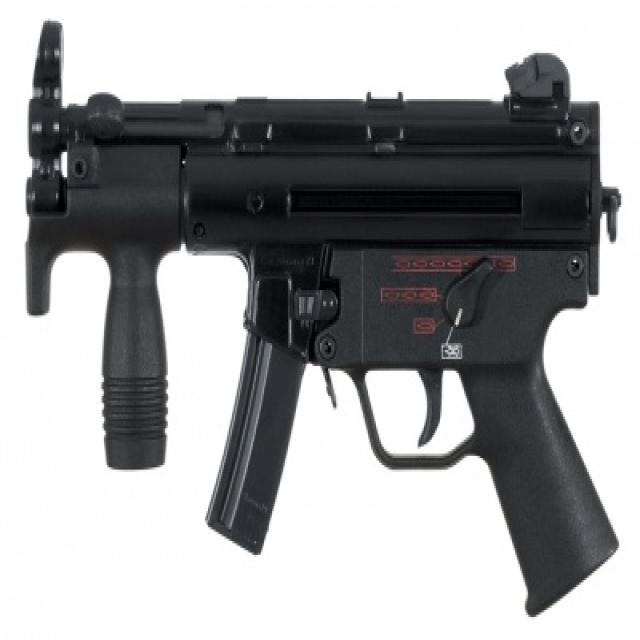SMG: (24, 21, 622, 617)
